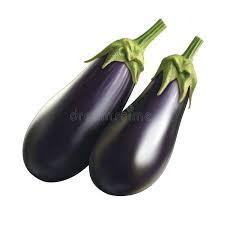non-mango: (21, 17, 166, 182), (88, 34, 203, 196)
